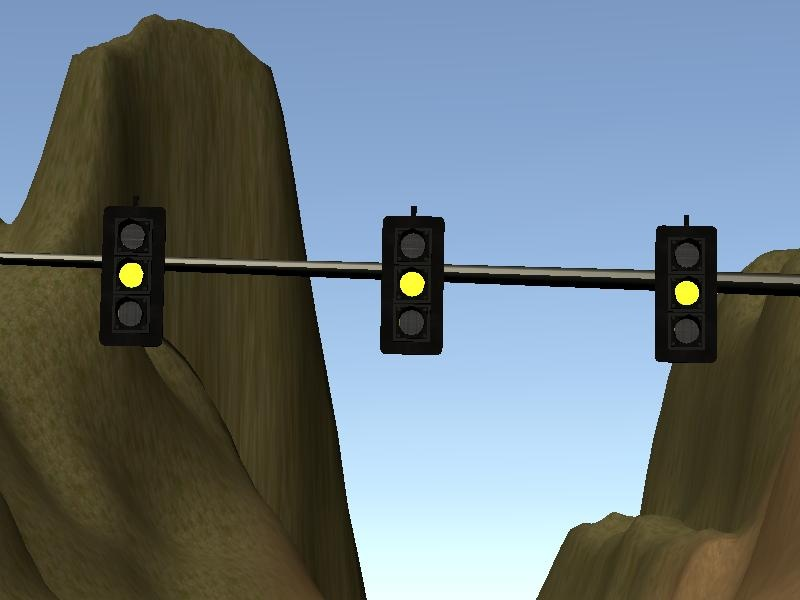yellow: (648, 223, 724, 370), (375, 211, 448, 362), (101, 203, 162, 344)
